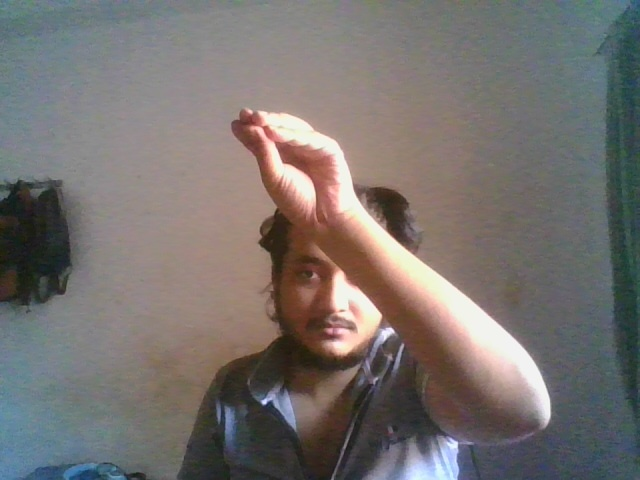Mouth: (231, 107, 358, 231)
